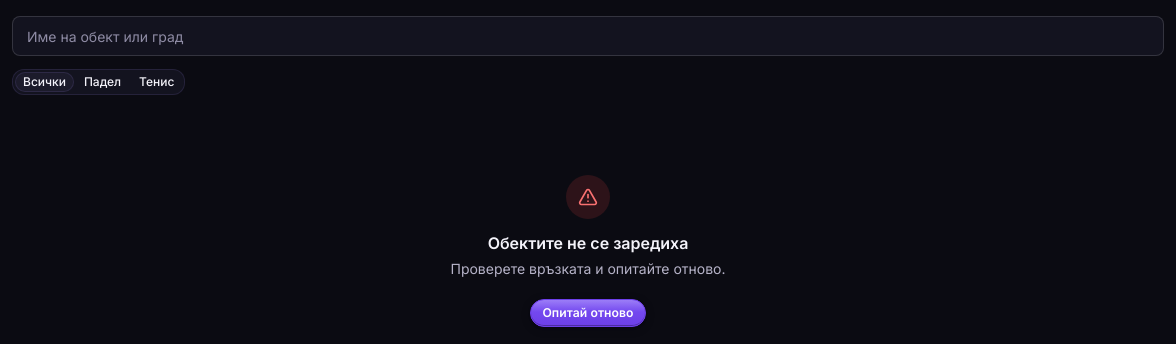
Test: /venues — a failed read with nothing to show (#335) › is an error with a retry, not a skeleton for ever, and the retry recovers
Check: the text "Обектите не се заредиха" is shown, box [488,233,688,253]
What coordinates should you click on to do the following:
click the button "Опитай отново"
I would click on:
 (588, 313)
Its box is [530,299,646,327].
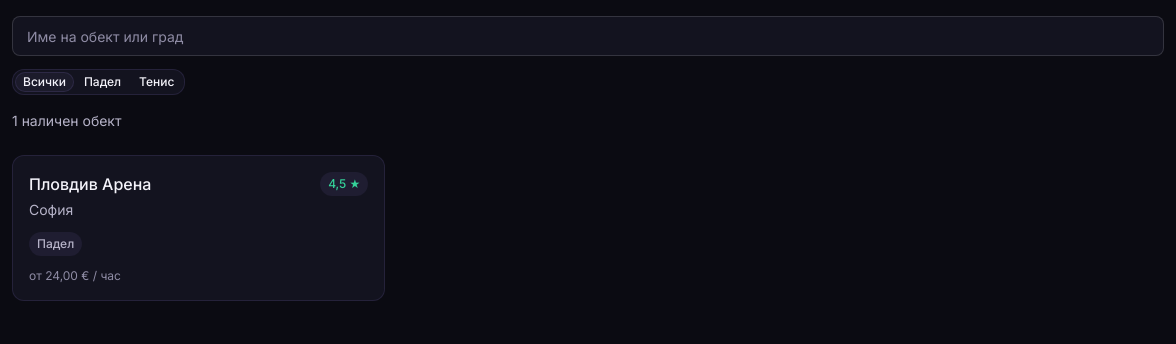
Check: the link "Пловдив Арена" is shown, box [29,174,151,194]
